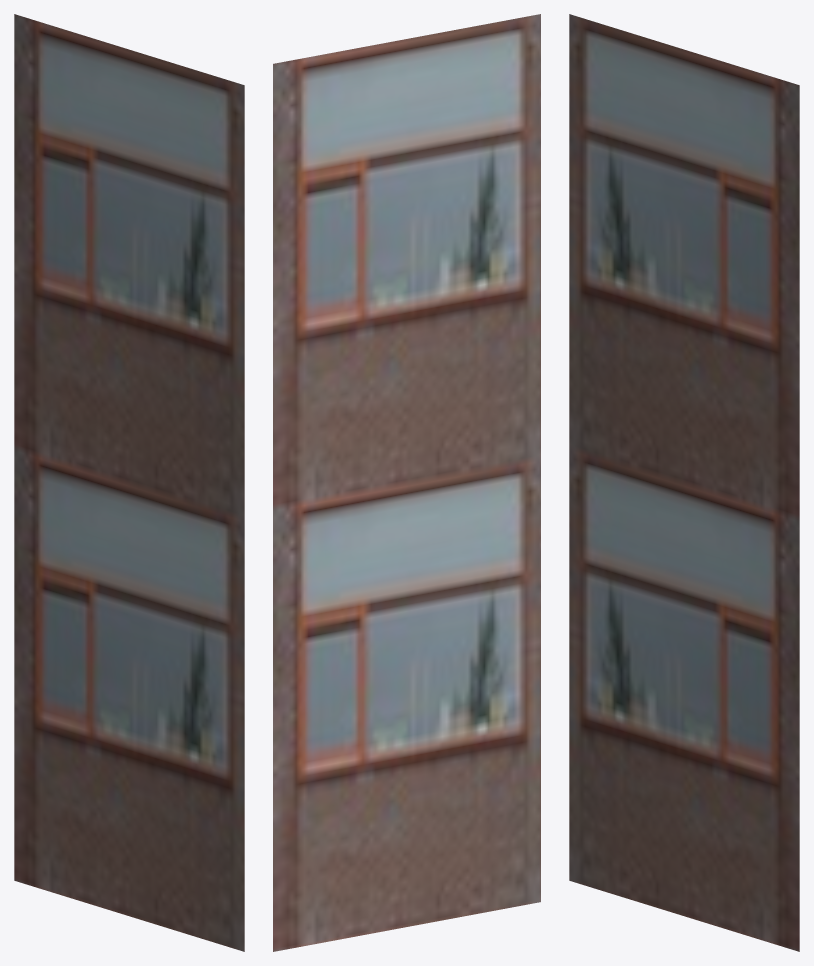
File: ResTex__4297.fbx
3 views of the same model, side by side, from view 1: azimuth 90°, elevation 25°; view 2: azimuth 150°, elevation 25°; view 3: azimuth 270°, elevation 25° (orthographic). The views are drawn at different scales.
Parts seen in each view (by area): view 1: CityEngineMaterial_19_m; view 2: CityEngineMaterial_19_m; view 3: CityEngineMaterial_19_m.
Boxes of the visible parts, left/top/right/bottom form: CityEngineMaterial_19_m: left=14, top=14, right=244, bottom=951; CityEngineMaterial_19_m: left=273, top=14, right=540, bottom=951; CityEngineMaterial_19_m: left=569, top=14, right=799, bottom=951.
Size of the model in its own units: 1.06 by 6 by 1.45.
Materials: 1 (1 with a texture image).
